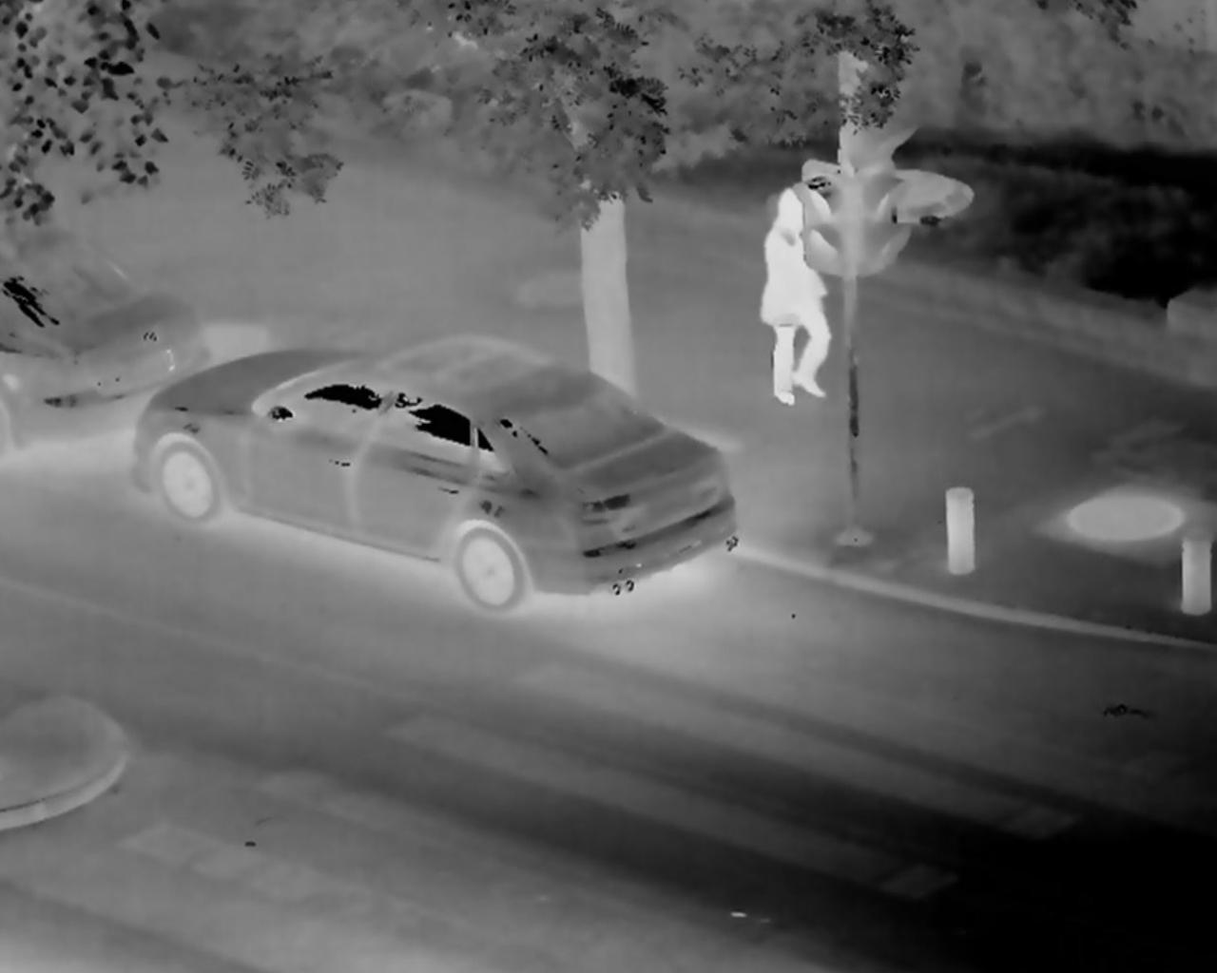person: (737, 188, 843, 409)
